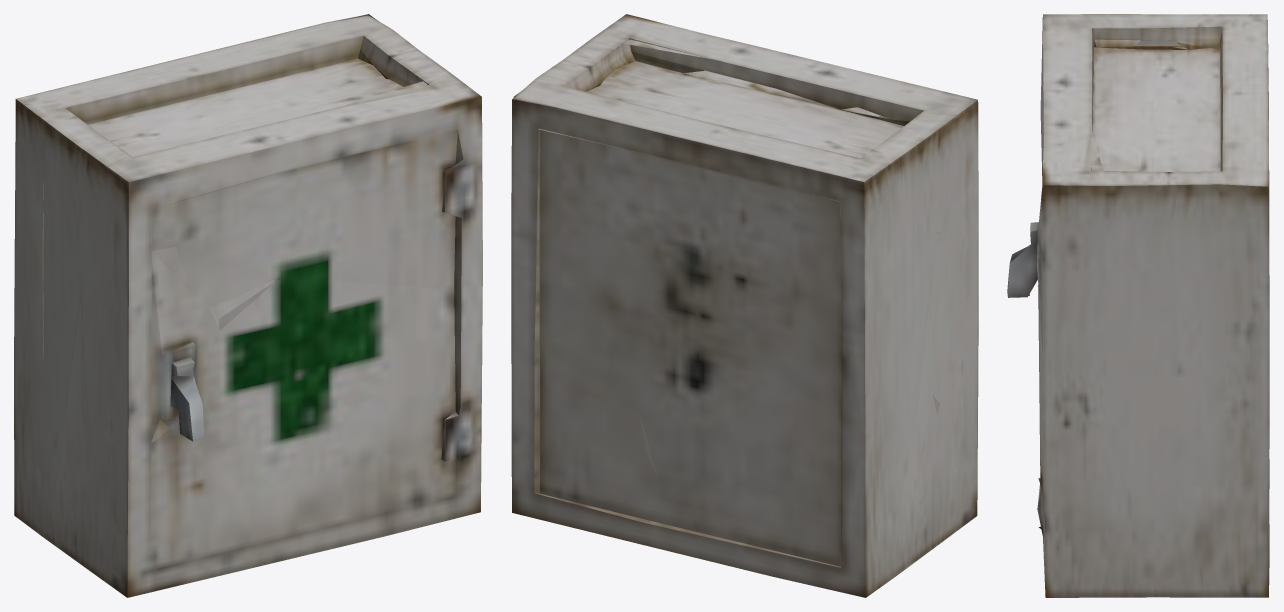
The model's file is p7-first-aid-wall-kit.glb.
3 renders of one model, left to right at view 1: azimuth 30°, elevation 25°; view 2: azimuth 150°, elevation 25°; view 3: azimuth 270°, elevation 25°, orthographic.
Visible parts, largest first — view 1: p7-first-aid-wall-kit; view 2: p7-first-aid-wall-kit; view 3: p7-first-aid-wall-kit.
Part boxes in pixels (left/top/right/bottom): p7-first-aid-wall-kit: left=14, top=14, right=482, bottom=597; p7-first-aid-wall-kit: left=511, top=14, right=978, bottom=597; p7-first-aid-wall-kit: left=1007, top=14, right=1269, bottom=597.
Bounding box in the file's own units: 0.4 × 0.45 × 0.2582.
1 material, 1 textured.
